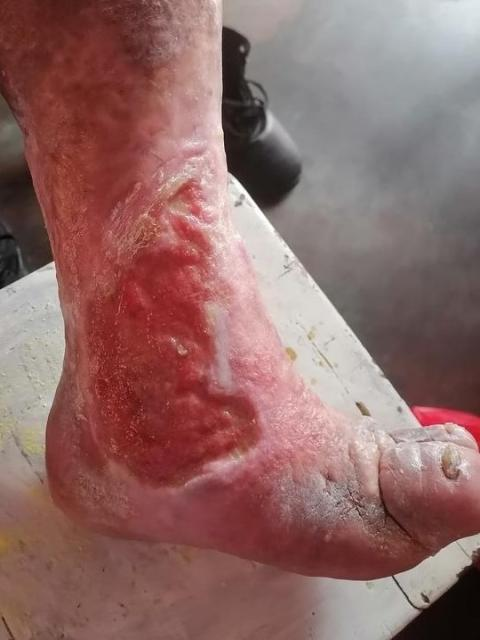wound: (72, 166, 265, 491), (56, 139, 85, 229)
